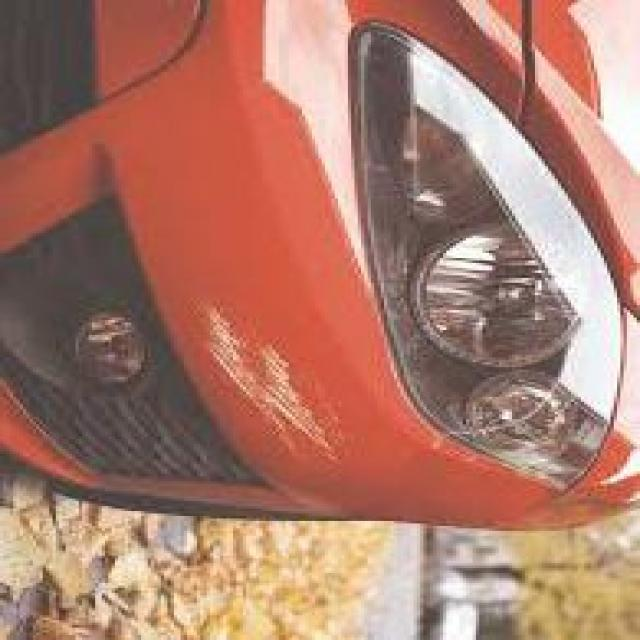scratch: (182, 288, 373, 492)
